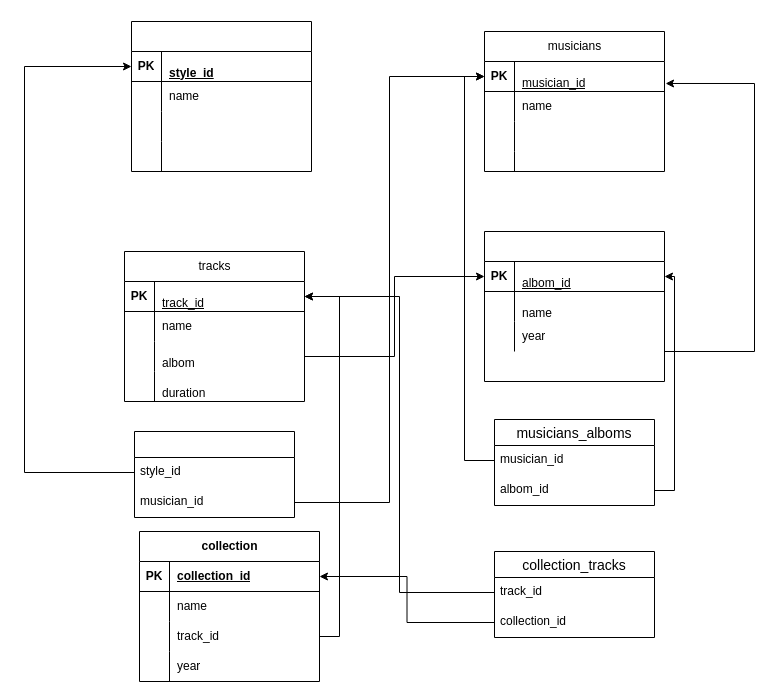
Some shapes in this 780 by 699 pixel diagram are drawn without their labels. Each missing label, with the box of its shape:
alboms: (484, 230, 664, 382)
musician_styles: (134, 430, 294, 518)
styles: (130, 20, 312, 172)
